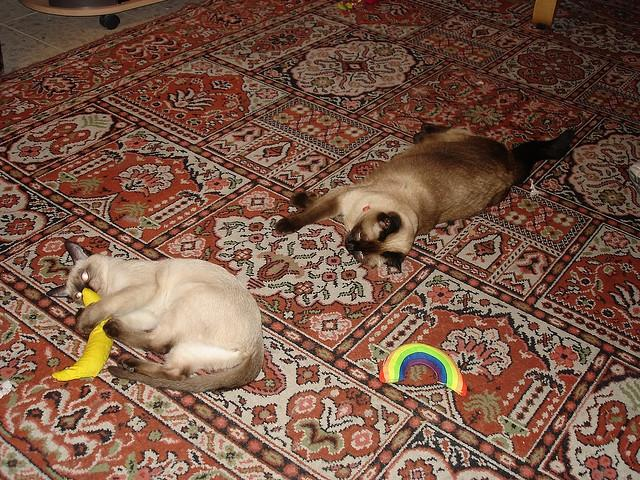banana: (52, 287, 115, 381)
